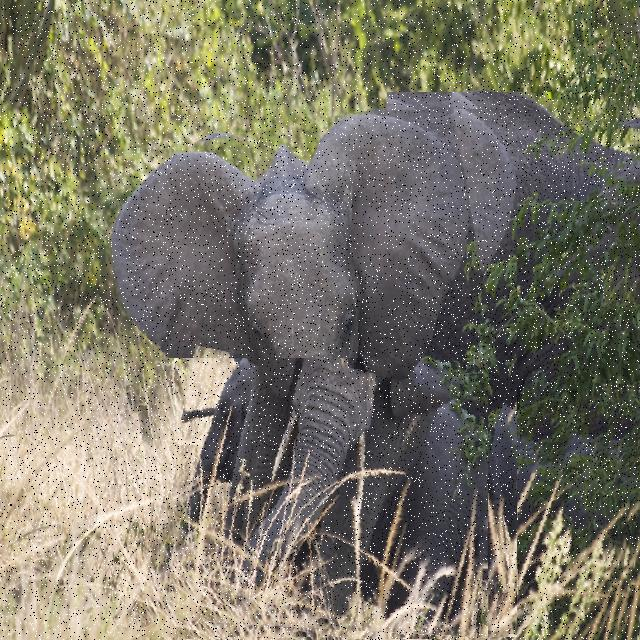elephant: (114, 109, 517, 637), (387, 92, 640, 470), (153, 358, 488, 640), (469, 398, 640, 640)
